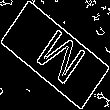M_SW: (24, 21, 86, 89)
